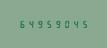five: (44, 20, 52, 28), (80, 20, 88, 28)
four: (26, 20, 34, 28), (71, 20, 79, 28)
nine: (35, 20, 43, 28), (53, 20, 61, 28)
six: (17, 20, 25, 28)
zero: (62, 20, 70, 28)
